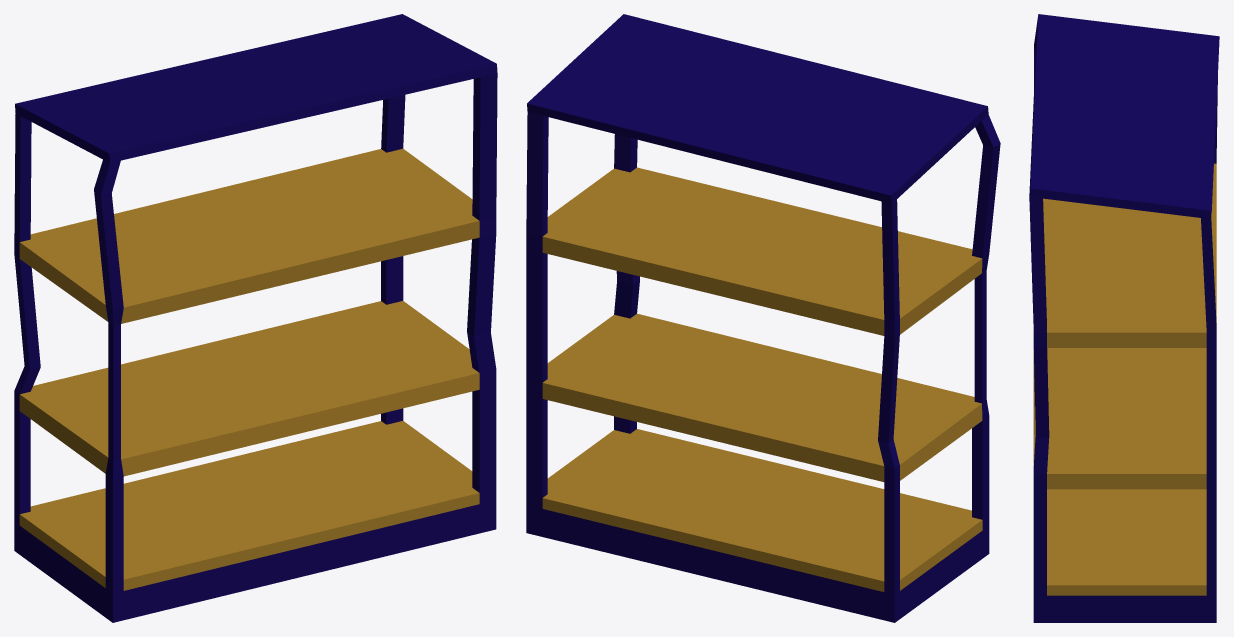
Rendered from SM_Sotrage_Rack00.fbx.
3 renders of one model, left to right at view 1: azimuth 30°, elevation 25°; view 2: azimuth 150°, elevation 25°; view 3: azimuth 270°, elevation 25°, orthographic. The views are drawn at different scales.
Parts seen in each view (by area): view 1: Sotrage_Rack00; view 2: Sotrage_Rack00; view 3: Sotrage_Rack00.
Part boxes in pixels (x1,y1,x2,y2): Sotrage_Rack00: (14,14,497,622); Sotrage_Rack00: (526,14,1000,622); Sotrage_Rack00: (1029,14,1219,622).
Size of the model in its own units: 259 by 291 by 116.
